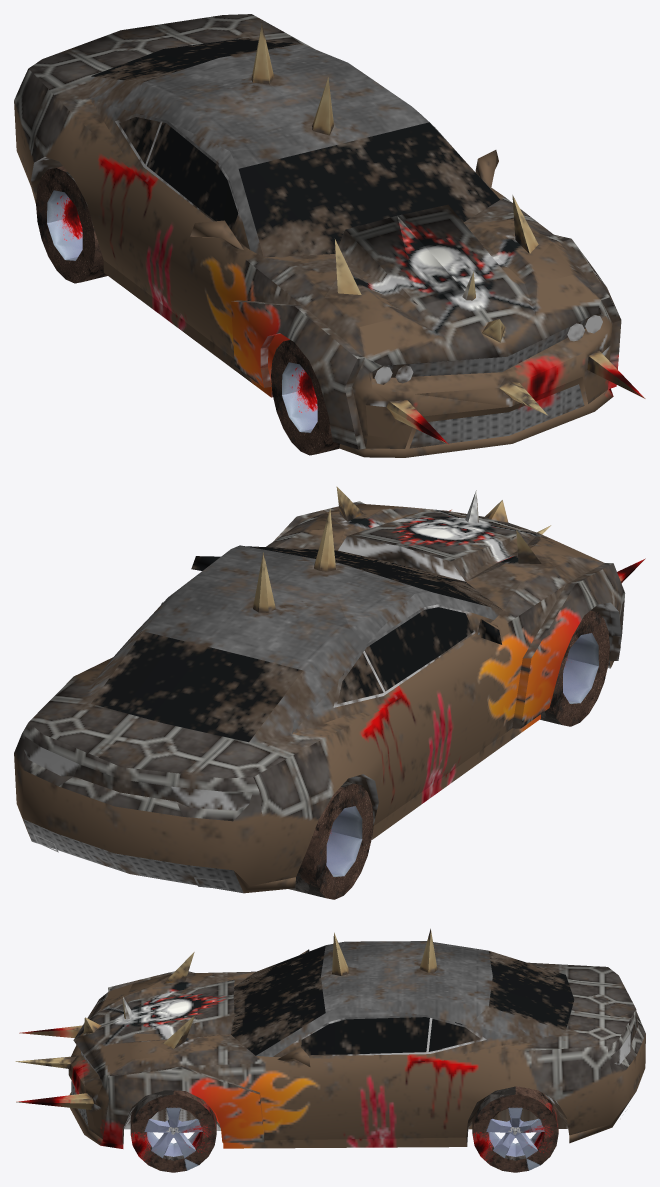
The model's file is car3_death.FBX.
The picture shows the model from 3 angles, top to bottom: view 1: azimuth 30°, elevation 25°; view 2: azimuth 150°, elevation 25°; view 3: azimuth 270°, elevation 25°; orthographic projection. The views are drawn at different scales.
Visible parts, largest first — view 1: car_one, Wheel_L003, Wheel_L002; view 2: car_one, Wheel_L003, Wheel_L002; view 3: car_one, Wheel_L001, Wheel_L.
Boxes of the visible parts, x1=… form: car_one: x1=14, y1=14, x2=645, y2=457; Wheel_L003: x1=36, y1=166, x2=107, y2=283; Wheel_L002: x1=271, y1=340, x2=339, y2=455; car_one: x1=14, y1=486, x2=645, y2=893; Wheel_L003: x1=289, y1=781, x2=373, y2=899; Wheel_L002: x1=540, y1=610, x2=609, y2=726; car_one: x1=15, y1=928, x2=645, y2=1148; Wheel_L001: x1=472, y1=1086, x2=558, y2=1172; Wheel_L: x1=130, y1=1090, x2=216, y2=1172.
Bounding box in the file's own units: 13.71 × 11.27 × 33.38.
Materials: 5 (5 with a texture image).
